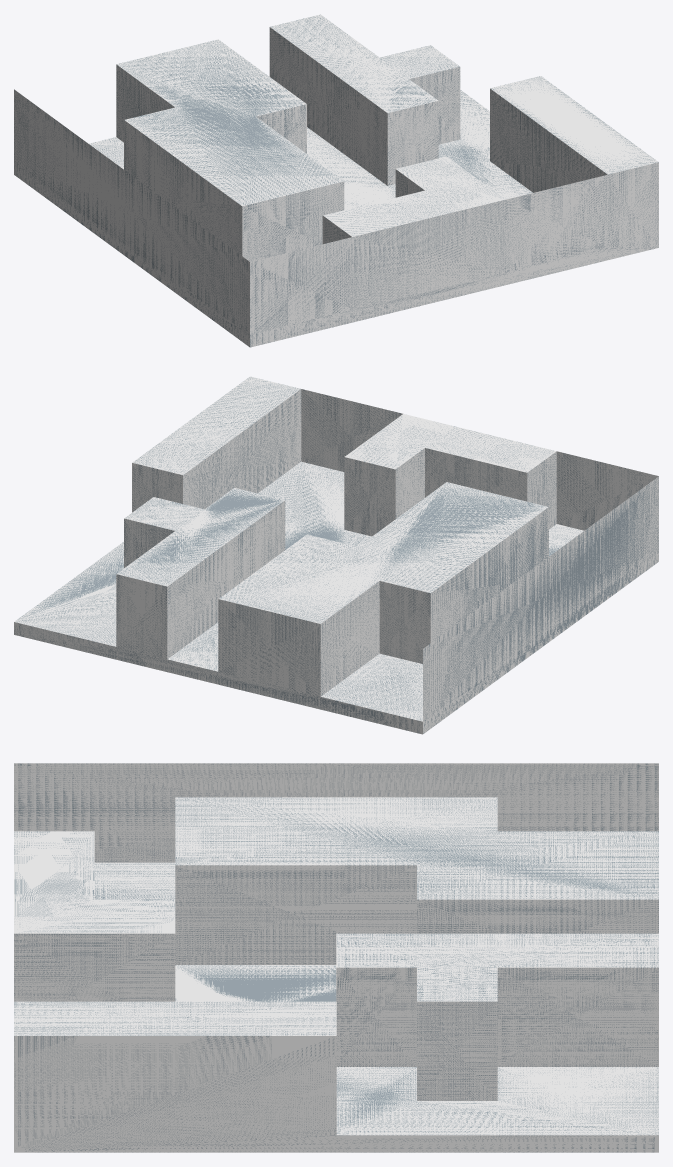
Rendered from FirstTutorialLevel.fbx.
3 views of the same model, one above another, from view 1: azimuth 30°, elevation 25°; view 2: azimuth 150°, elevation 25°; view 3: azimuth 270°, elevation 25° (orthographic). The views are drawn at different scales.
Parts seen in each view (by area): view 1: Model; view 2: Model; view 3: Model.
Boxes of the visible parts, <box> form: Model: <box>14,14,658,347</box>; Model: <box>14,376,658,734</box>; Model: <box>14,763,658,1152</box>.
Size of the model in its own units: 100 by 20 by 100.
